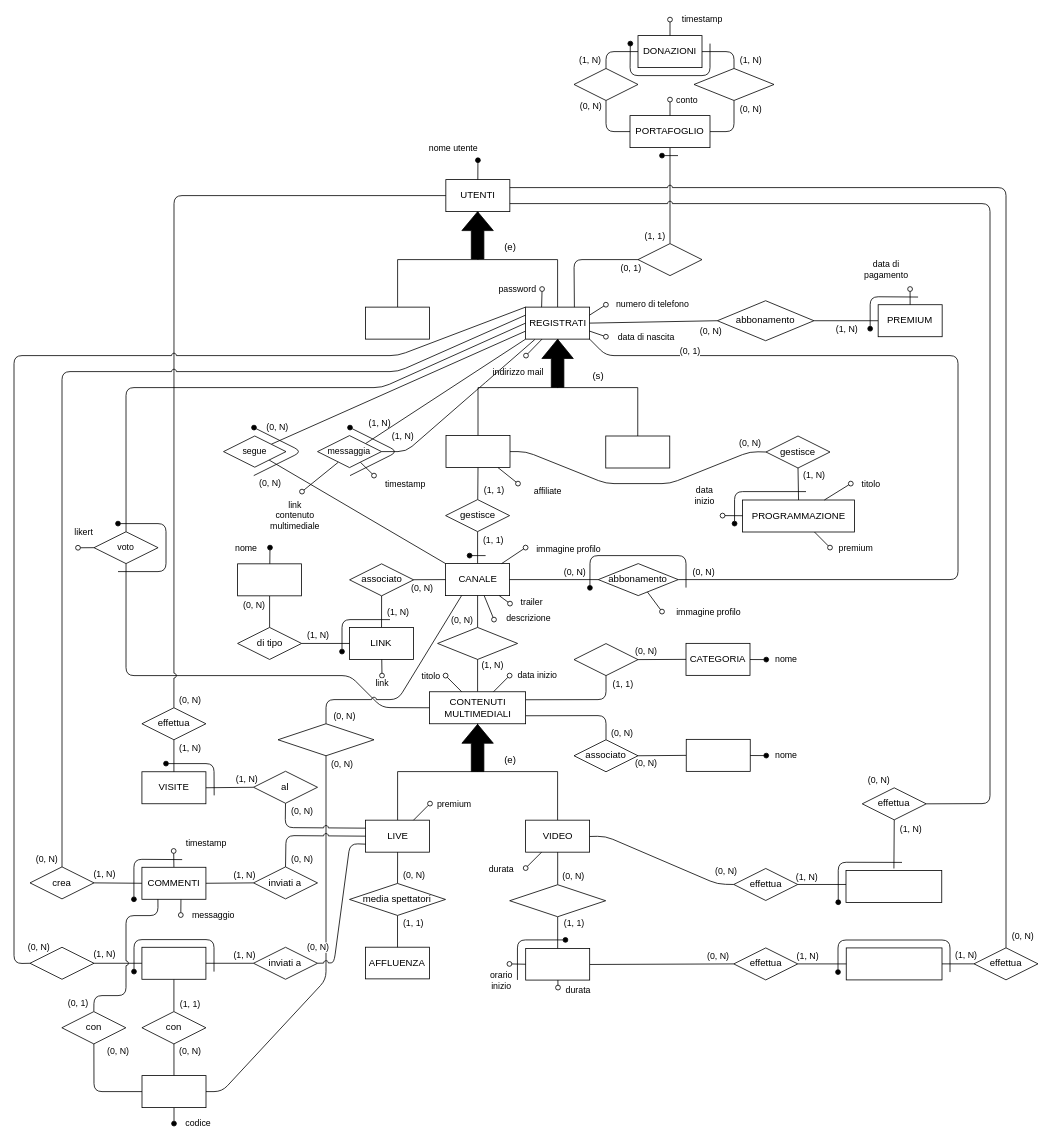
The diagram is 1052 pixels wide and 1144 high, and some of its shapes have lost their labels. The centre of each missing label's shape, as x and y in pixels:
"appartiene" goes at (x=605, y=659).
"CLIP" goes at (x=557, y=964).
"contenitore di" goes at (x=477, y=643).
"destinatario" goes at (x=733, y=84).
"EMOJIS" goes at (x=173, y=1091).
"GUEST" goes at (x=397, y=322).
"ha" goes at (x=669, y=259).
"HASHTAG" goes at (x=717, y=755).
"invia" goes at (x=61, y=962).
"mittente" goes at (x=605, y=84).
"proprietario di" goes at (x=325, y=739).
"REAZIONI" goes at (x=173, y=962).
"scomposto in" goes at (x=557, y=900).
"SOCIAL" goes at (x=269, y=579).
"SPETTATORI" goes at (x=637, y=451).
"STREAMER" goes at (x=477, y=451).
"VISUALIZZAZIONI CLIP" goes at (x=893, y=963).
"VISUALIZZAZIONI VIDEO" goes at (x=893, y=886).
